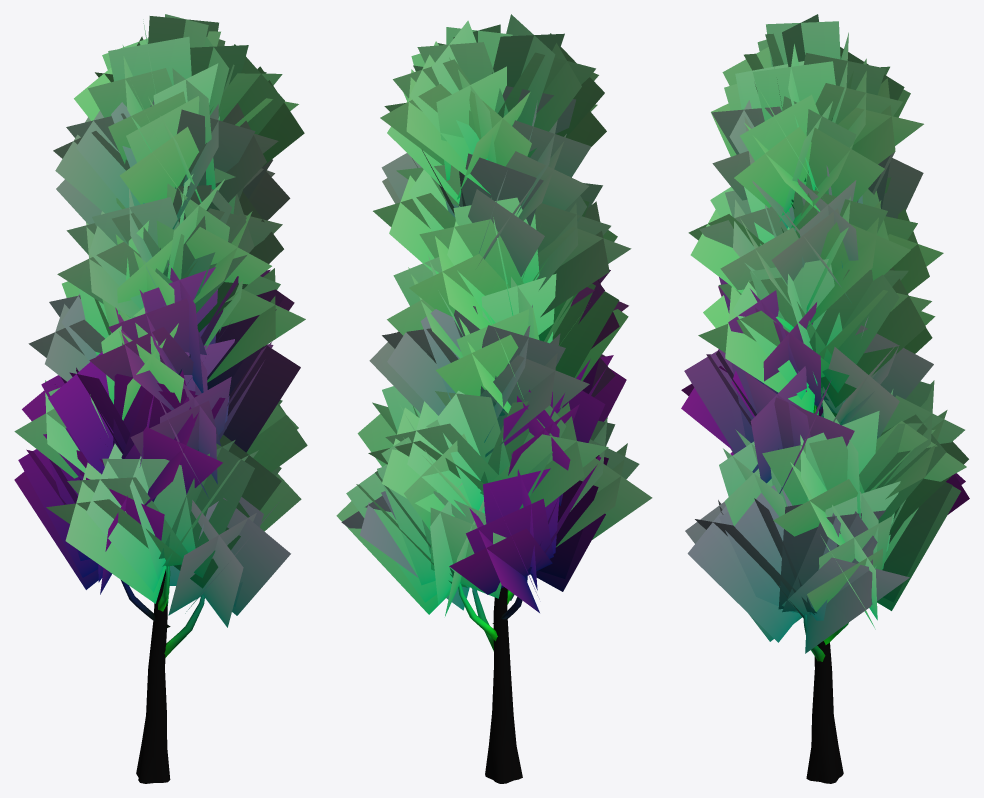
File: Tree_9_1.fbx
3 renders of one model, left to right at view 1: azimuth 30°, elevation 25°; view 2: azimuth 150°, elevation 25°; view 3: azimuth 270°, elevation 25°, orthographic.
Parts seen in each view (by area): view 1: _1; view 2: _1; view 3: _1.
Part boxes in pixels (x1=…): _1: x1=14, y1=14, x2=307, y2=783; _1: x1=336, y1=14, x2=652, y2=783; _1: x1=681, y1=14, x2=969, y2=783.
Size of the model in its own units: 678 by 1817 by 632.
